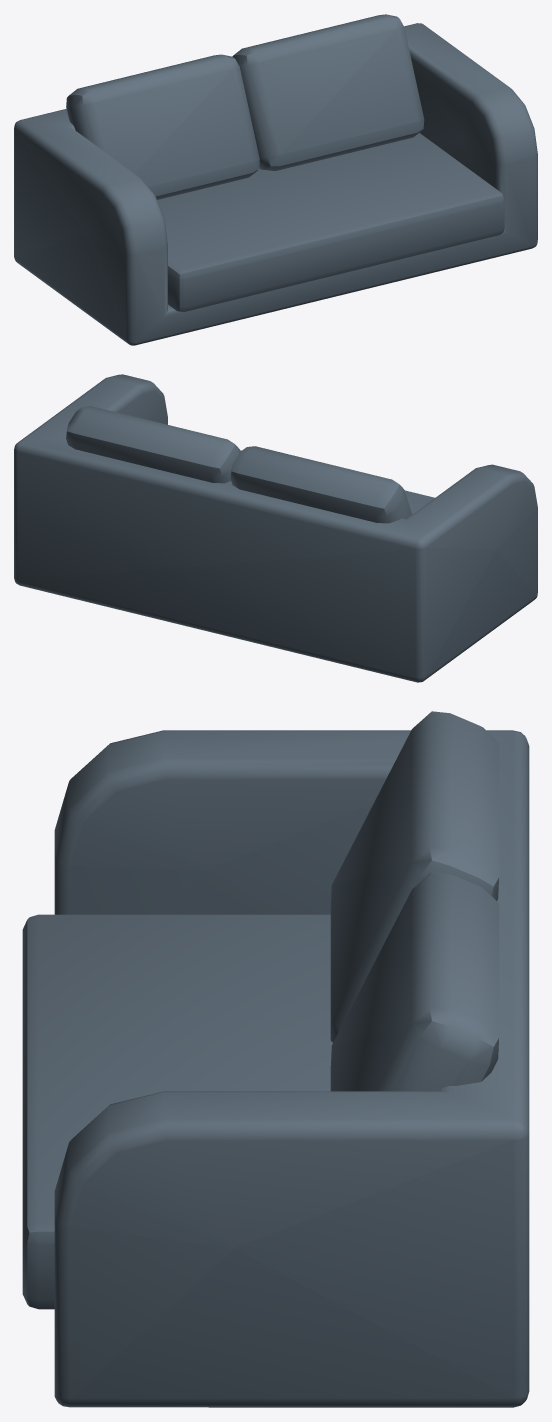
File: couch.high.654845a3.glb
3 renders of one model, top to bottom at view 1: azimuth 30°, elevation 25°; view 2: azimuth 150°, elevation 25°; view 3: azimuth 270°, elevation 25°, orthographic. The views are drawn at different scales.
Parts seen in each view (by area): view 1: couch; view 2: couch; view 3: couch.
Part boxes in pixels (<box>): couch: <box>14,14,537,345</box>; couch: <box>14,374,537,682</box>; couch: <box>22,711,529,1407</box>.
Size of the model in its own units: 2.1 by 0.8568 by 1.12.
